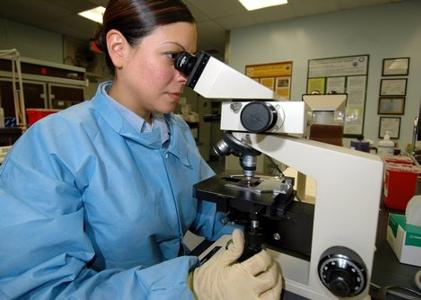person: (3, 2, 286, 299)
